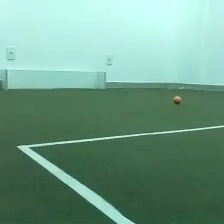ball: (172, 93, 182, 104)
goal: (1, 66, 108, 92)
